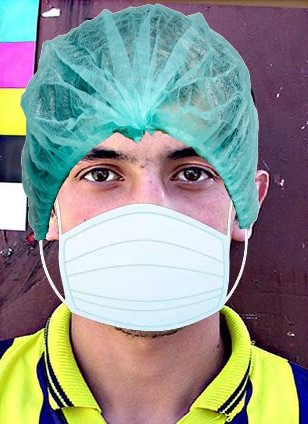with_mask_and_cap: (19, 7, 262, 330)
